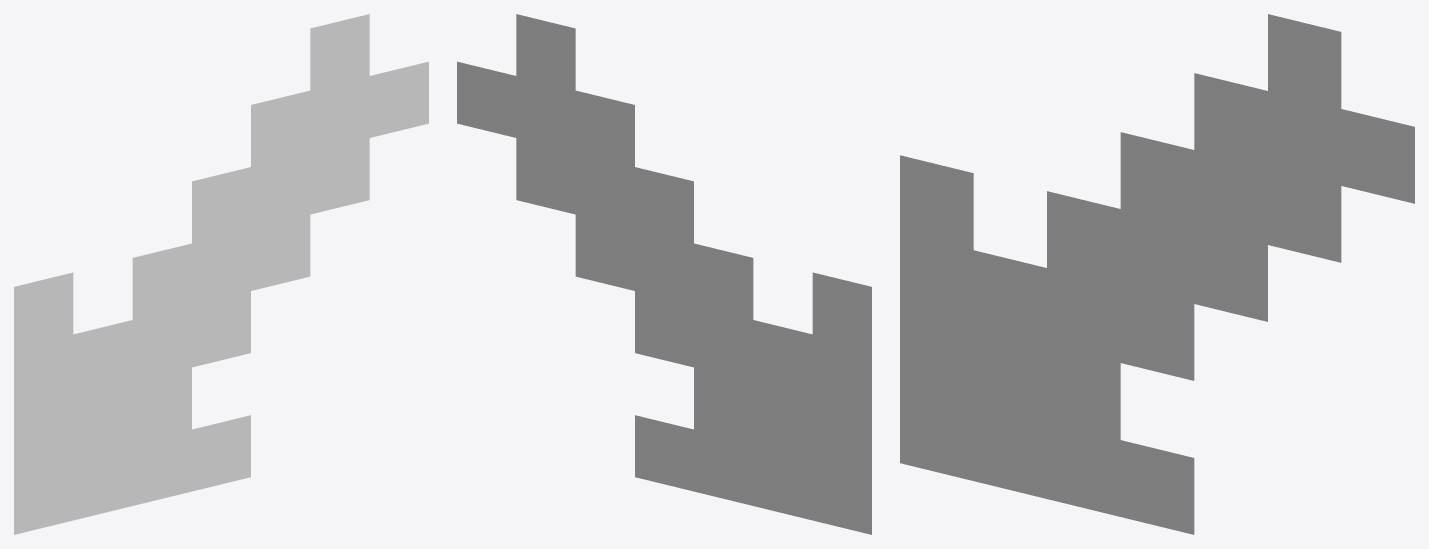
Rendered from chr11_wtf.obj.
The picture shows the model from 3 angles, left to right: view 1: azimuth 30°, elevation 25°; view 2: azimuth 150°, elevation 25°; view 3: azimuth 330°, elevation 25°; orthographic projection. The views are drawn at different scales.
Parts seen in each view (by area): view 1: group1; view 2: group1; view 3: group1.
Part boxes in pixels (box(x1,y1,x2,y2)): group1: box(14, 14, 428, 534); group1: box(457, 14, 871, 534); group1: box(900, 14, 1414, 534).
Size of the model in its own units: 660 by 660 by 1.2e-05.
